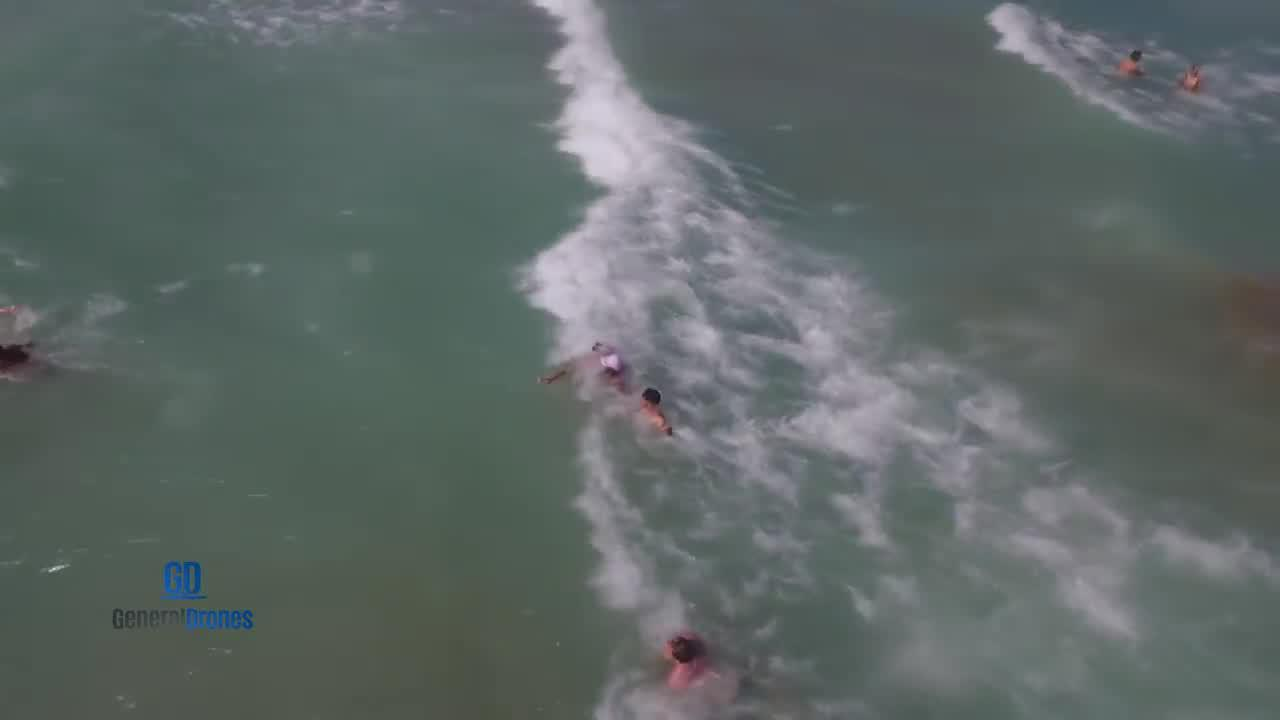swimmer: (632, 611, 751, 699), (527, 330, 636, 394), (619, 384, 689, 448), (1174, 52, 1211, 102), (1112, 39, 1152, 85)
